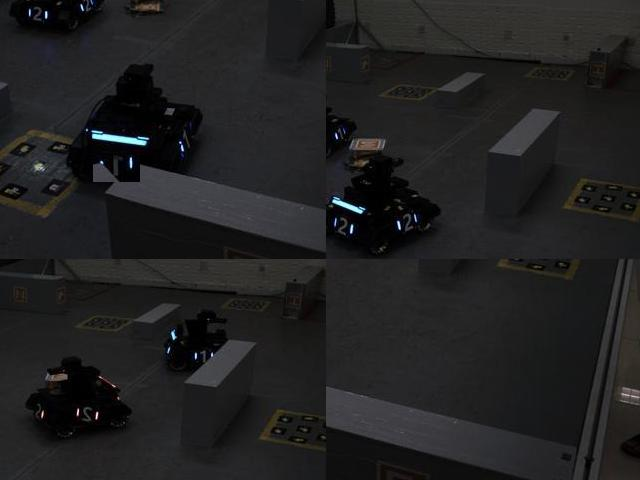armor: (93, 149, 141, 183), (73, 402, 107, 427), (174, 127, 198, 160), (330, 213, 357, 241), (393, 211, 422, 235), (24, 1, 50, 24), (29, 397, 49, 423), (73, 0, 101, 18), (188, 347, 215, 365), (329, 124, 349, 143)
